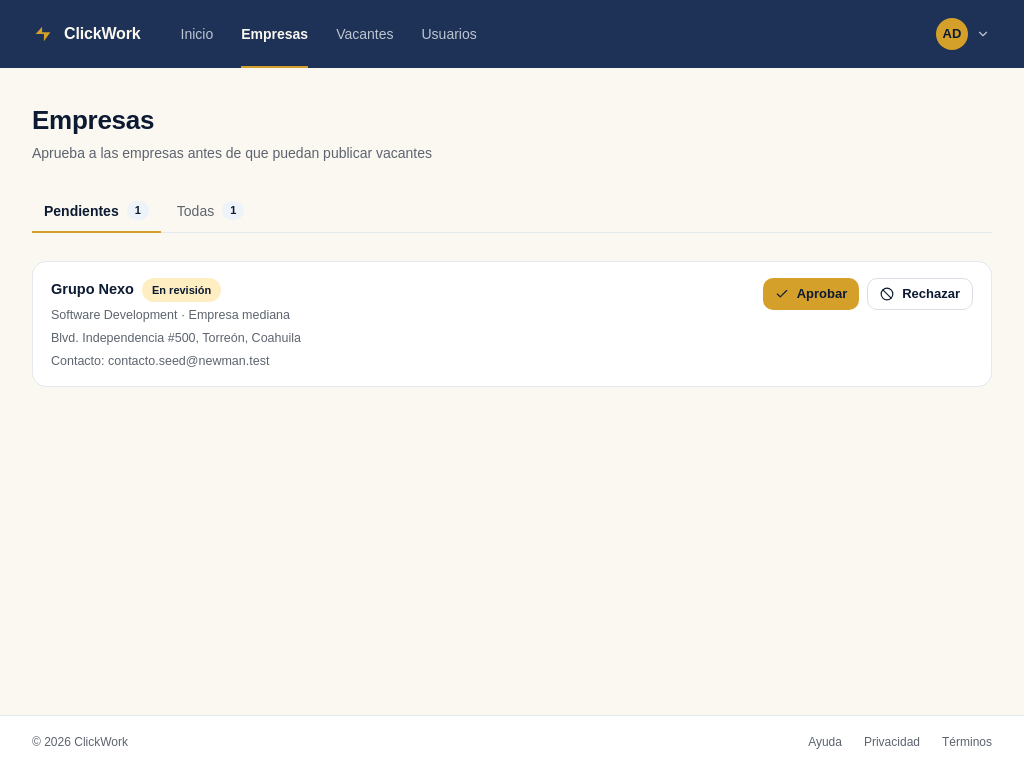
Scenario: AdminCompaniesPage › shows the backend reason when the approval fails
Click the button with aria-label "Aprobar Grupo Nexo": (811, 294) [763, 278, 859, 310]
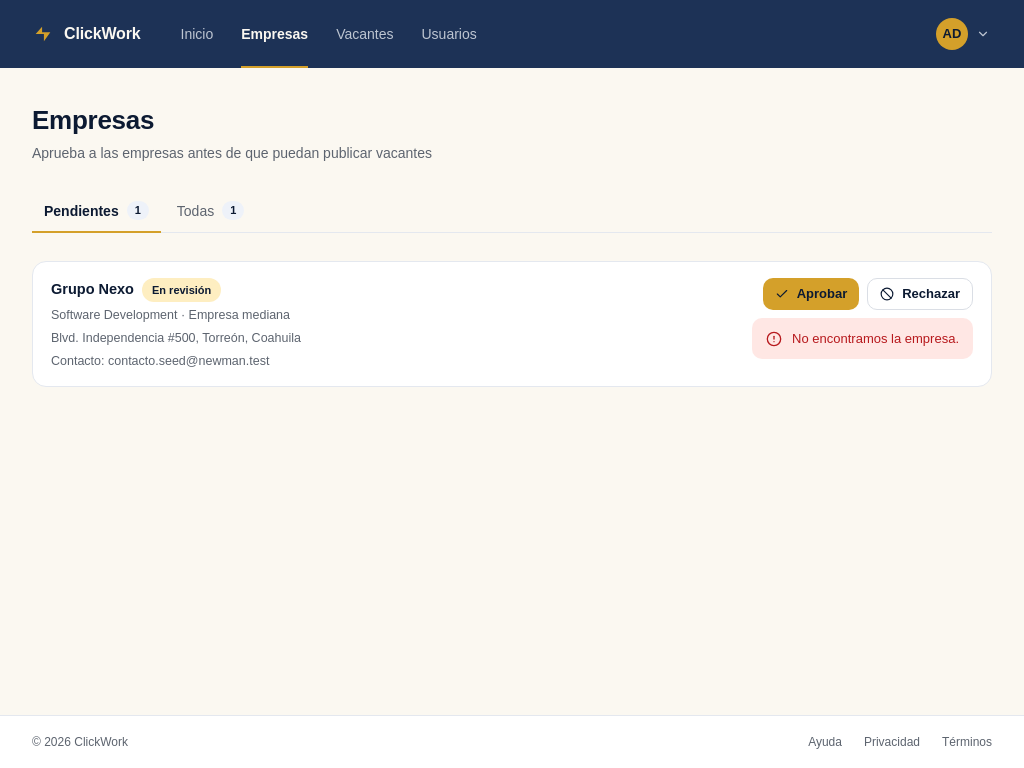
Expected: the message reads "No encontramos la empresa.", [792, 330, 959, 346]
